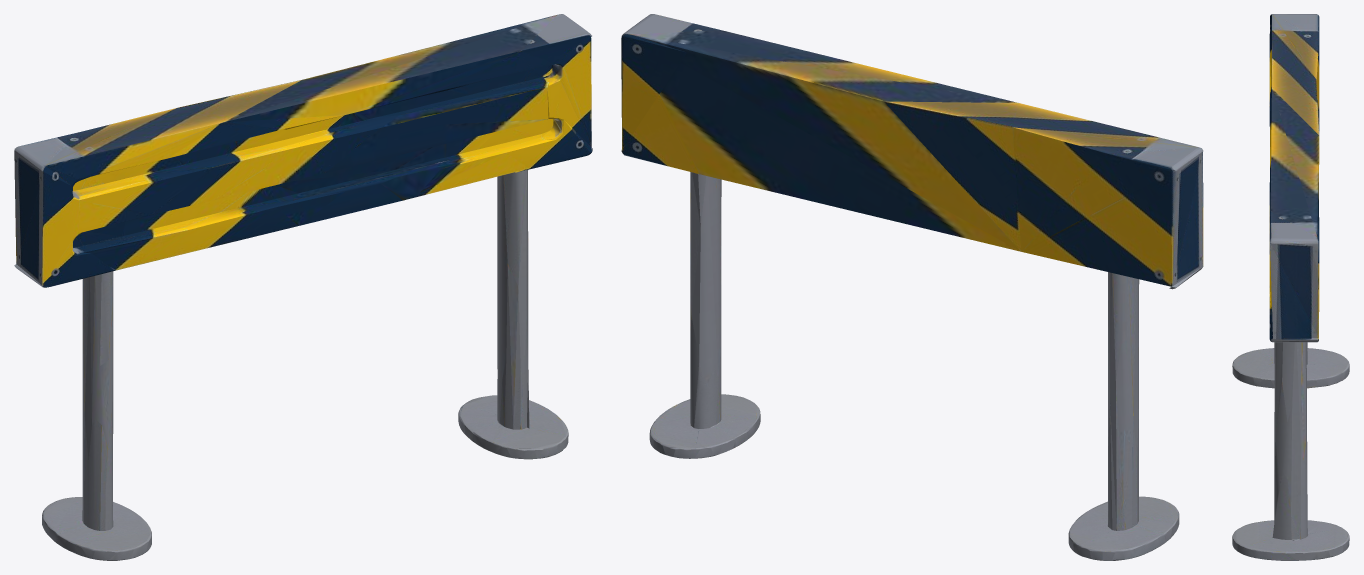
The model's file is barrier.glb.
3 renders of one model, left to right at view 1: azimuth 30°, elevation 25°; view 2: azimuth 150°, elevation 25°; view 3: azimuth 270°, elevation 25°, orthographic. The views are drawn at different scales.
Size of the model in its own units: 1.9 by 1.29 by 0.4137.
Materials: 1 (1 with a texture image).
